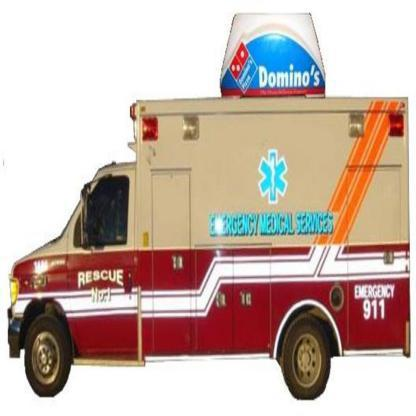Ambulance - v1 Ambulance last generate: (5, 95, 411, 397)
